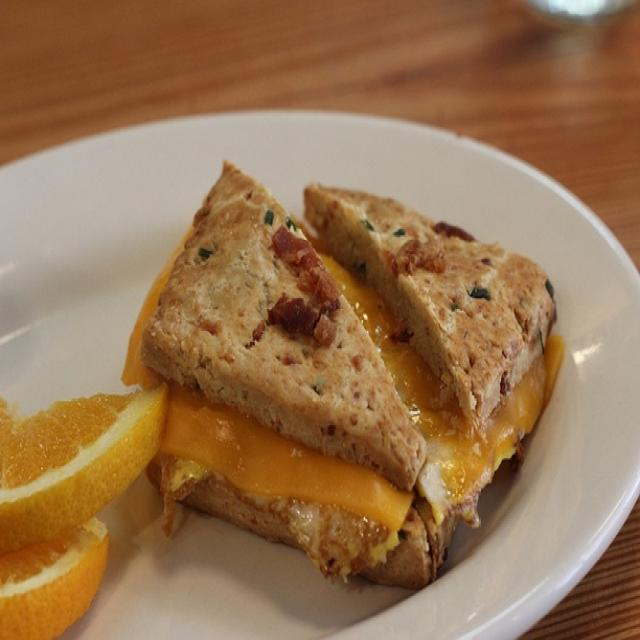面包点心: (31, 116, 614, 623)
